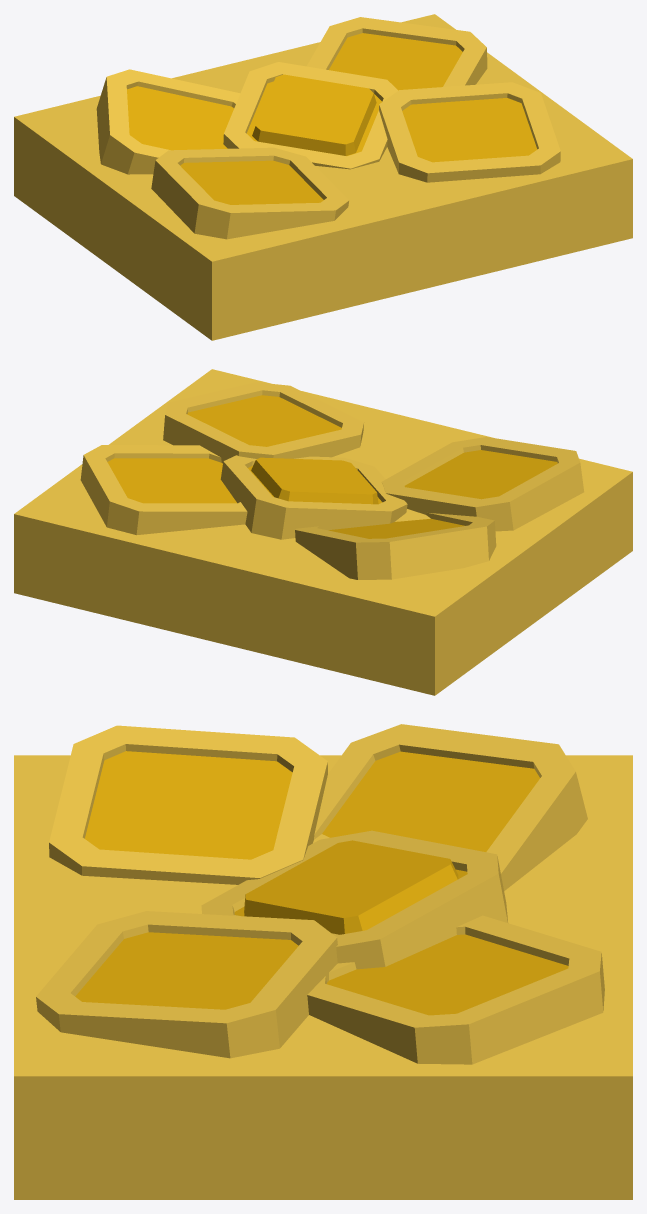
The model's file is SM_Treasure_Chest_01_D_Coins.fbx.
3 views of the same model, one above another, from view 1: azimuth 30°, elevation 25°; view 2: azimuth 150°, elevation 25°; view 3: azimuth 270°, elevation 25° (orthographic). The views are drawn at different scales.
Parts seen in each view (by area): view 1: pCube652; view 2: pCube652; view 3: pCube652.
Part boxes in pixels (x1,y1,x2,y2): pCube652: (14,14,632,340); pCube652: (14,369,632,695); pCube652: (14,724,632,1199).
Bounding box in the file's own units: 55.67 × 15.14 × 45.37.
Materials: 1 (1 with a texture image).
